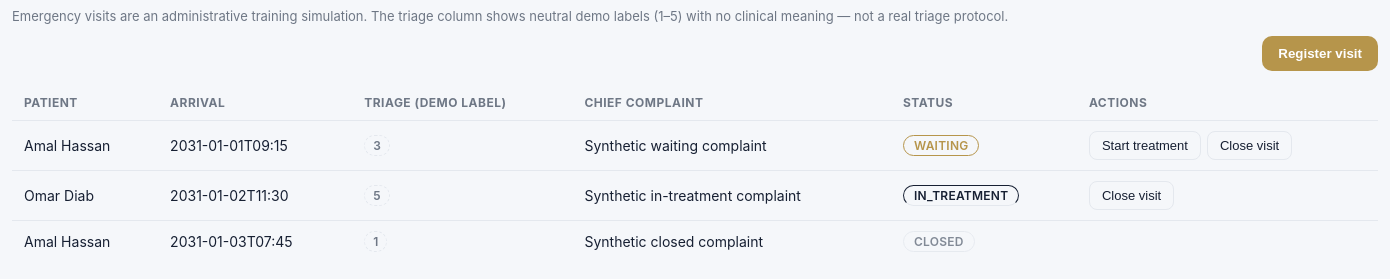
Test: EmergencyVisitsPage › labels the triage select demonstrably as a non-clinical demo value
Click the button "Register visit" at coordinates (1320, 54), box [1262,36,1378,71]
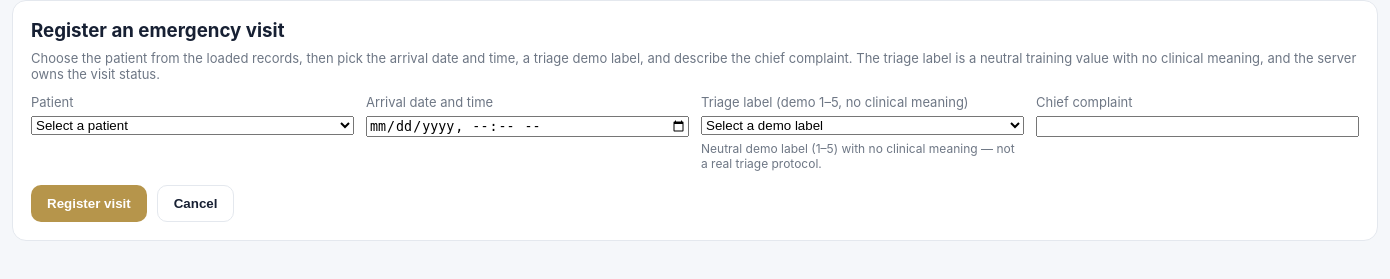
Check: the dropdown labelled "Triage label (demo 1–5, no clinical meaning)" is shown, box [701,116,1024,135]
Check: the text "Neutral demo label (1–5) with no clinical meaning" is shown, box [701,141,1015,171]
